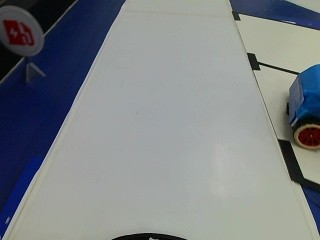battery: (0, 6, 46, 57)
car: (286, 58, 318, 152)
